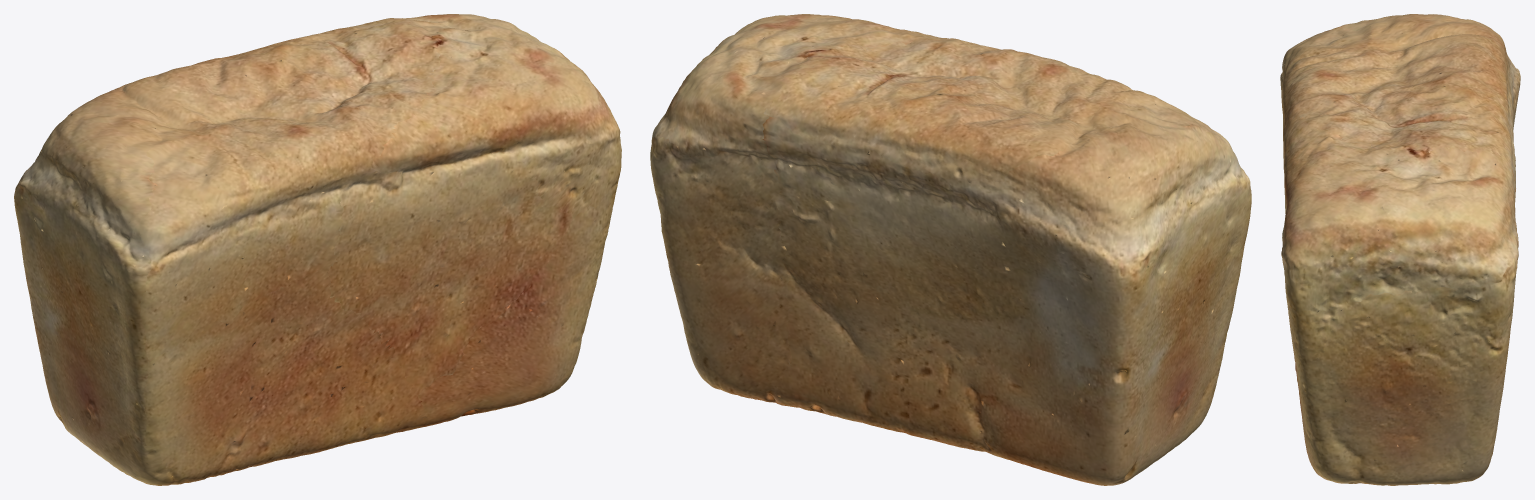
The model's file is bread_1.fbx.
3 renders of one model, left to right at view 1: azimuth 30°, elevation 25°; view 2: azimuth 150°, elevation 25°; view 3: azimuth 270°, elevation 25°, orthographic. The views are drawn at different scales.
Parts seen in each view (by area): view 1: Bread1; view 2: Bread1; view 3: Bread1.
Boxes of the visible parts, box(x1,y1,x2,y2) form: Bread1: box(14, 14, 621, 485); Bread1: box(650, 14, 1251, 485); Bread1: box(1280, 14, 1520, 485).
Size of what is drawn, in the model's own units: 24.4 by 11.3 by 15.87.
